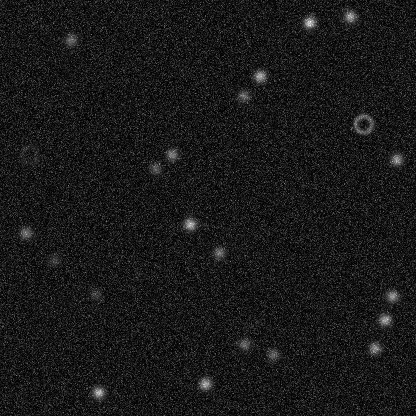Ring: (351, 112, 375, 136), (17, 142, 41, 166)
Spot: (236, 336, 252, 352), (384, 288, 400, 304), (376, 311, 392, 327), (90, 384, 106, 400), (251, 68, 267, 84), (17, 224, 33, 240), (235, 87, 251, 103), (341, 8, 357, 24), (264, 346, 280, 362), (211, 244, 227, 260), (197, 375, 213, 391), (87, 286, 103, 302), (181, 216, 197, 232), (45, 252, 61, 268), (366, 339, 382, 355), (388, 151, 404, 167), (62, 31, 78, 47), (147, 160, 163, 176), (301, 14, 317, 30), (164, 146, 180, 162)
